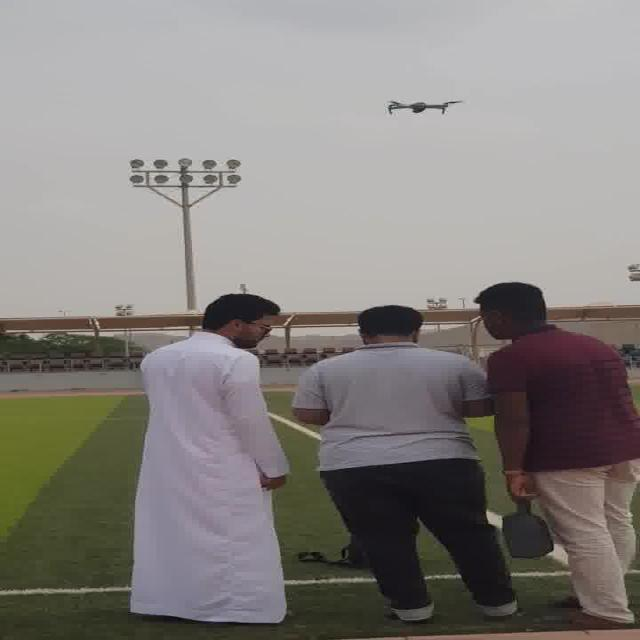drone: (378, 94, 466, 116)
